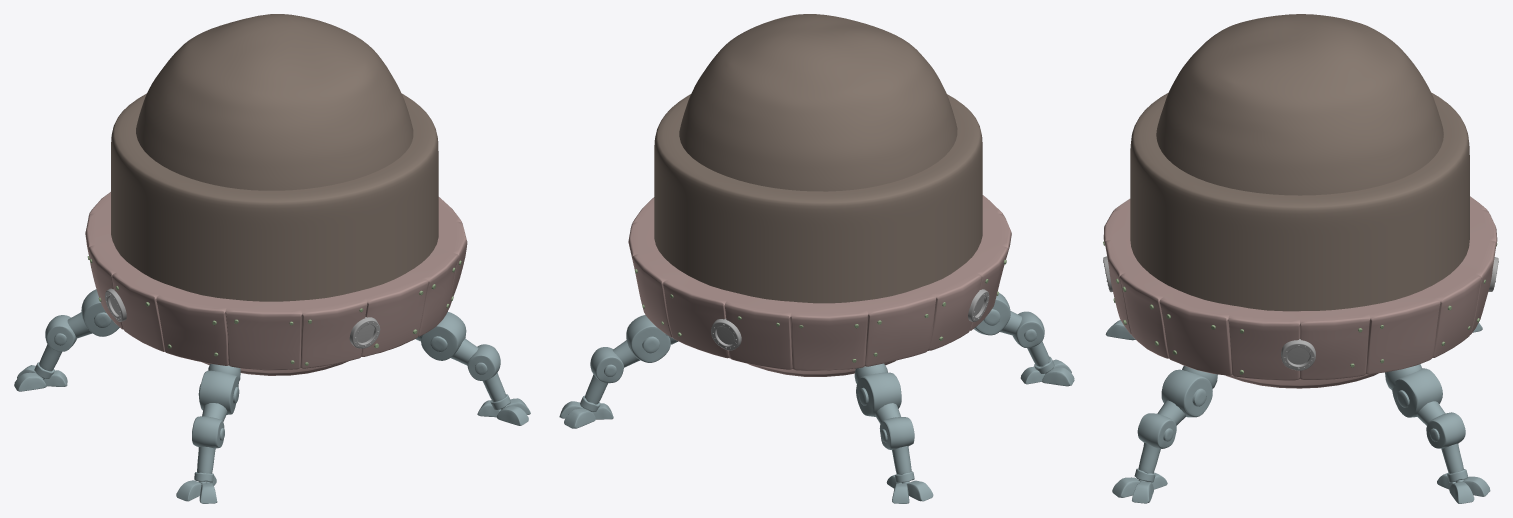
The model's file is VarOne_Test.fbx.
3 renders of one model, left to right at view 1: azimuth 30°, elevation 25°; view 2: azimuth 150°, elevation 25°; view 3: azimuth 270°, elevation 25°, orthographic. The views are drawn at different scales.
Parts seen in each view (by area): view 1: VarOne_group19_pCube72; view 2: VarOne_group19_pCube72; view 3: VarOne_group19_pCube72.
Boxes of the visible parts, bbox=[...] form: VarOne_group19_pCube72: bbox=[14, 14, 530, 503]; VarOne_group19_pCube72: bbox=[559, 14, 1074, 503]; VarOne_group19_pCube72: bbox=[1103, 14, 1498, 503].
Bounding box in the file's own units: 19.48 × 18.62 × 17.51.
